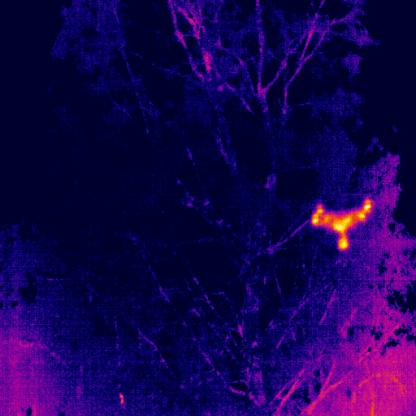drone: (310, 197, 372, 248)
